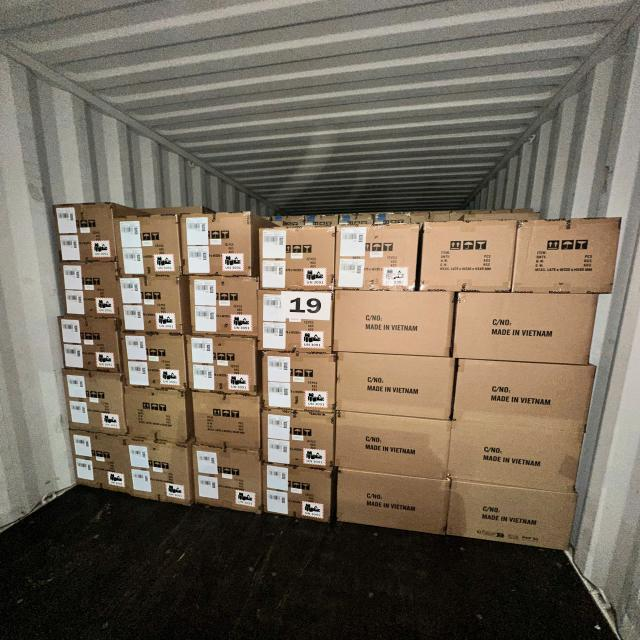Carton: (451, 354, 599, 439), (452, 289, 598, 366), (449, 419, 582, 495), (446, 478, 580, 552), (334, 408, 453, 478), (335, 350, 454, 418), (518, 220, 623, 296), (332, 468, 447, 536), (332, 290, 452, 355), (424, 222, 517, 296), (331, 221, 424, 294), (257, 227, 333, 294), (189, 448, 262, 517), (181, 216, 254, 280), (257, 294, 331, 356), (262, 350, 337, 410), (126, 441, 192, 509), (190, 275, 261, 336), (189, 391, 260, 451), (260, 409, 333, 467), (187, 336, 259, 394), (260, 467, 330, 525), (115, 218, 180, 280), (64, 372, 126, 435), (119, 333, 187, 389), (68, 431, 127, 493), (53, 202, 114, 261), (119, 277, 182, 334), (122, 390, 187, 444), (58, 319, 120, 375), (62, 264, 92, 318)
